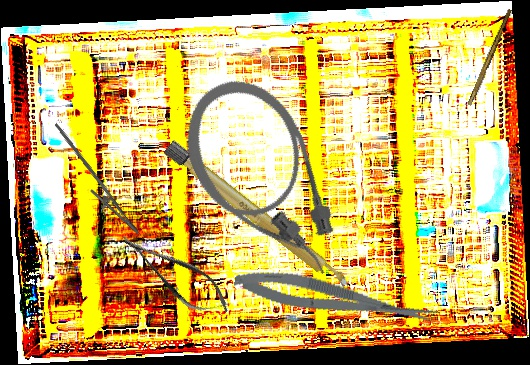Cannula: (165, 61, 359, 305)
Micro Scissor: (231, 260, 441, 339), (112, 221, 238, 327)
Needle Holder: (34, 121, 152, 243)
Scalpel Handle: (162, 139, 354, 295), (467, 7, 513, 108)
